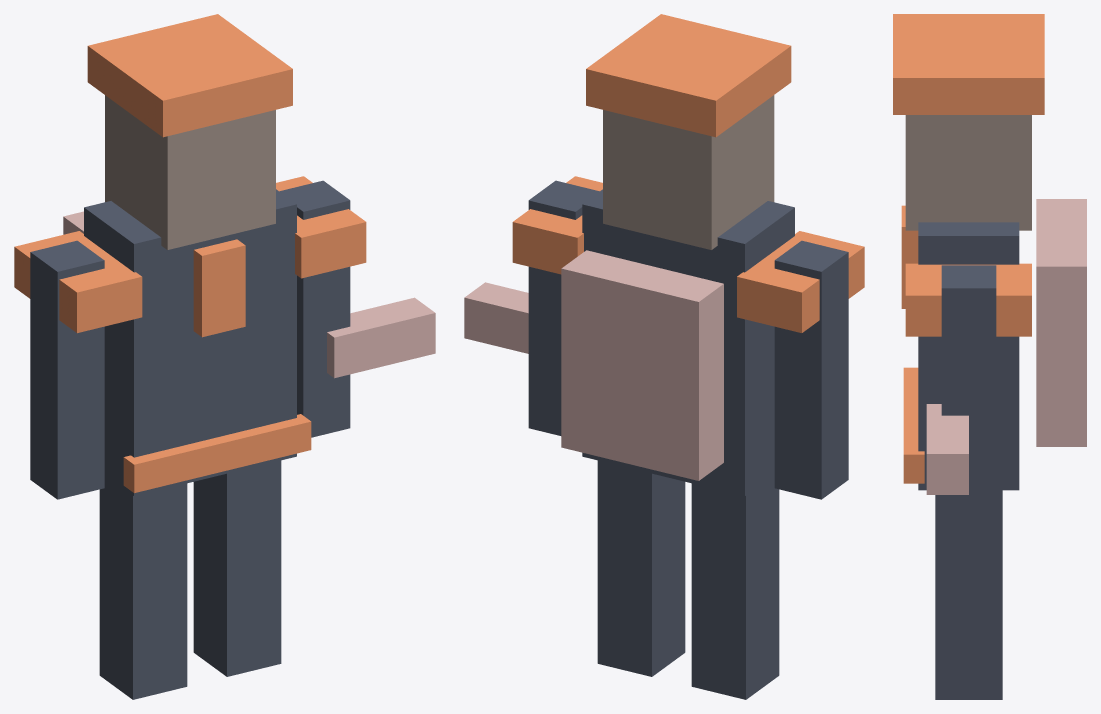
Rendered from 12_vexa_frostrelay_navigator_near_defense.glb.
3 views of the same model, side by side, from view 1: azimuth 30°, elevation 25°; view 2: azimuth 150°, elevation 25°; view 3: azimuth 270°, elevation 25° (orthographic).
Visible parts, largest first — view 1: Vexa Frostrelay, Navigator near Defense; view 2: Vexa Frostrelay, Navigator near Defense; view 3: Vexa Frostrelay, Navigator near Defense.
Boxes of the visible parts, x1=… form: Vexa Frostrelay, Navigator near Defense: x1=14, y1=14, x2=435, y2=699; Vexa Frostrelay, Navigator near Defense: x1=464, y1=14, x2=864, y2=699; Vexa Frostrelay, Navigator near Defense: x1=893, y1=14, x2=1086, y2=699.
Size of the model in its own units: 0.9825 by 1.55 by 0.4409.
